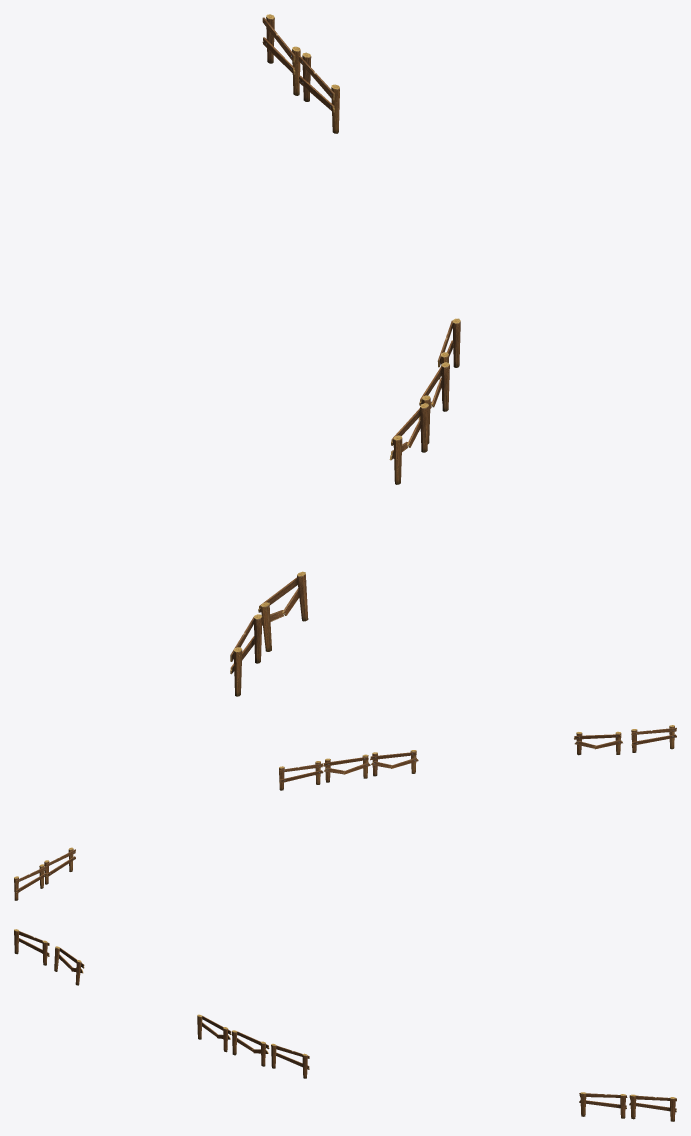
File: Area_11_54.fbx
The picture shows the model from 3 angles, top to bottom: view 1: azimuth 30°, elevation 25°; view 2: azimuth 150°, elevation 25°; view 3: azimuth 270°, elevation 25°; orthographic projection. The views are drawn at different scales.
Visible parts, largest first — view 1: Area_11_54; view 2: Area_11_54; view 3: Area_11_54.
Boxes of the visible parts, x1,y1,x2,y2 form: Area_11_54: (230,14,460,696); Area_11_54: (14,725,676,900); Area_11_54: (14,929,676,1121).
Size of the model in its own units: 2198 by 147 by 3593.
